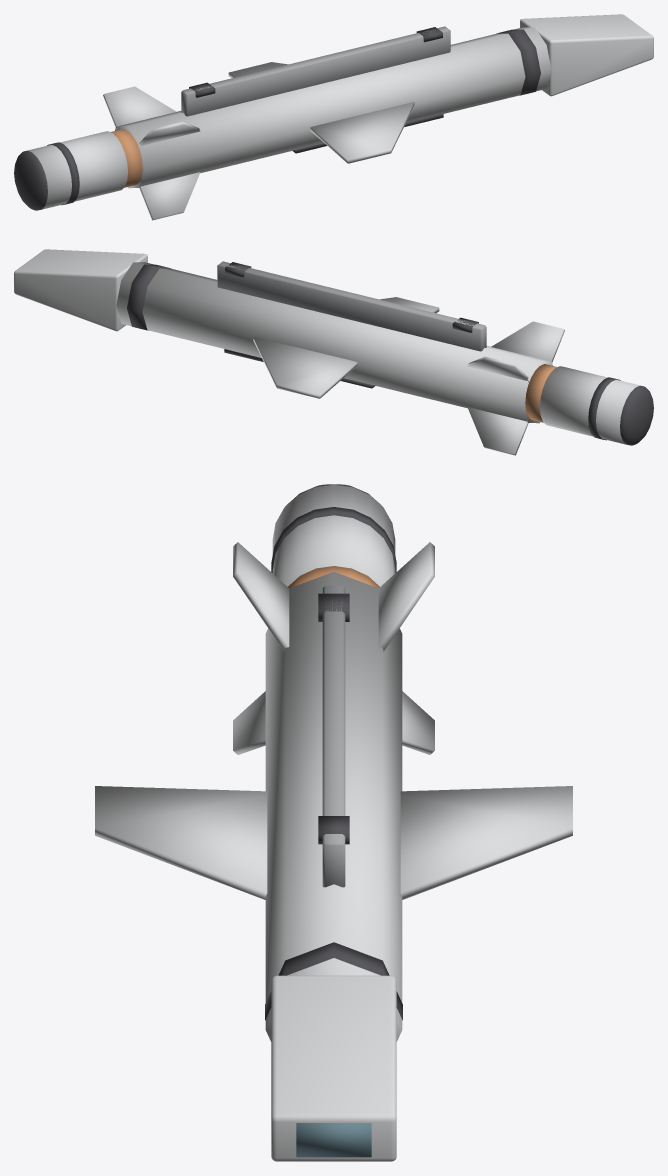
File: aam_3.glb
3 renders of one model, top to bottom at view 1: azimuth 30°, elevation 25°; view 2: azimuth 150°, elevation 25°; view 3: azimuth 270°, elevation 25°, orthographic. The views are drawn at different scales.
Visible parts, largest first — view 1: aam_3; view 2: aam_3; view 3: aam_3.
Boxes of the visible parts, box(x1,y1,x2,y2) form: aam_3: box(14, 14, 653, 220); aam_3: box(14, 249, 653, 455); aam_3: box(95, 484, 572, 1161).
Size of the model in its own units: 1 by 0.1511 by 0.336.
